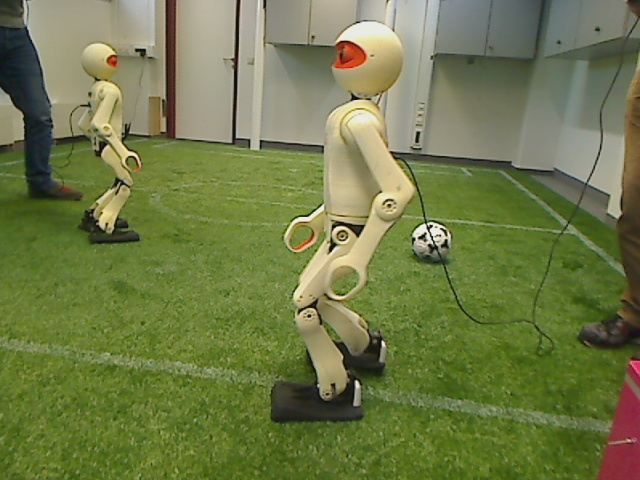ball: (407, 219, 453, 265)
robot: (269, 19, 403, 425), (66, 40, 145, 248)
